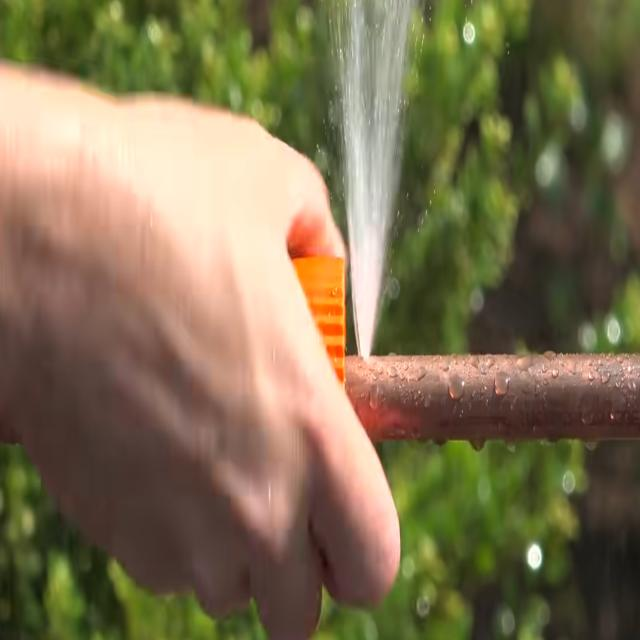leak: (320, 0, 424, 360)
